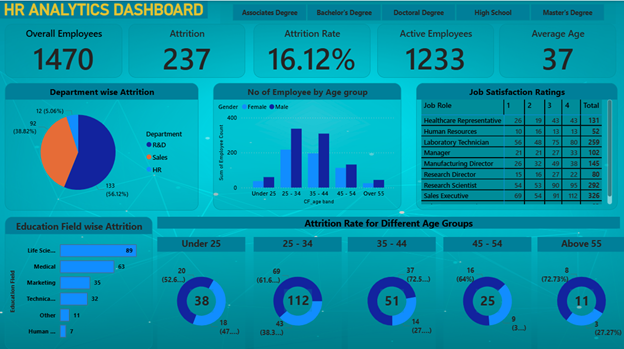

The page's visual inventory and layout, read from the dashboard file:
{"tool":"powerbi","page":{"name":"Page 1","canvas":[1280,720],"ordinal":0},"visuals":[{"type":"card","title":"Overall Employees","fields":{"Values":["Sum(HR data.Employee Count)"]},"box":[11.1,47.7,240.2,109.8],"z":0},{"type":"card","title":"Attrition","fields":{"Values":["Sum(HR data.Attrition Count)"]},"box":[264,47.7,238.6,109.8],"z":1000},{"type":"card","title":"Attrition Rate","fields":{"Values":["HR data.Attrition Rate"]},"box":[520.1,47.7,238.6,109.8],"z":2000},{"type":"card","title":"Active Employees","fields":{"Values":["HR data.Active Employees"]},"box":[773,47.7,238.6,109.8],"z":3000},{"type":"card","title":"Average Age","fields":{"Values":["Avg(HR data.Age)"]},"box":[1022.8,47.7,238.6,109.8],"z":4000},{"type":"pieChart","title":"Department wise Attrition","fields":{"Category":["HR data.Department"],"Y":["Sum(HR data.Attrition Count)"]},"box":[11.1,168.6,396.1,260.9],"z":5000},{"type":"clusteredColumnChart","title":"No of Employee by Age group","fields":{"Category":["HR data.CF_age band"],"Y":["Sum(HR data.Employee Count)"],"Series":["HR data.Gender"]},"box":[437.4,168.6,384.9,259.3],"z":6000},{"type":"pivotTable","title":"Job Satisfaction Ratings","fields":{"Rows":["HR data.Job Role"],"Columns":["HR data.Job Satisfaction"],"Values":["Sum(HR data.Employee Count)"]},"box":[852.6,168.6,412,259.3],"z":7000},{"type":"barChart","title":"Education Field wise Attrition","fields":{"Category":["HR data.Education Field"],"Y":["Sum(HR data.Attrition Count)"]},"box":[11.1,442.2,302.2,272],"z":8000},{"type":"donutChart","title":"Under 25","fields":{"Category":["HR data.Gender"],"Y":["Sum(HR data.Attrition Count)"],"Series":["HR data.CF_age band"]},"box":[322.9,483.5,179.7,237],"z":9000},{"type":"textbox","title":"Attrition Rate for Different Age Groups","box":[322.9,442.2,946.4,23.9],"z":10000},{"type":"donutChart","title":"25 - 34","fields":{"Category":["HR data.Gender"],"Y":["Sum(HR data.Attrition Count)"],"Series":["HR data.CF_age band"]},"box":[520.1,483.5,179.7,237],"z":11000},{"type":"donutChart","title":"35 - 44","fields":{"Category":["HR data.Gender"],"Y":["Sum(HR data.Attrition Count)"],"Series":["HR data.CF_age band"]},"box":[712.6,483.5,179.7,237],"z":12000},{"type":"donutChart","title":"45 - 54","fields":{"Category":["HR data.Gender"],"Y":["Sum(HR data.Attrition Count)"],"Series":["HR data.CF_age band"]},"box":[908.2,483.5,179.7,237],"z":13000},{"type":"donutChart","title":"Above 55","fields":{"Category":["HR data.Gender"],"Y":["Sum(HR data.Attrition Count)"],"Series":["HR data.CF_age band"]},"box":[1100.7,483.5,179.7,237],"z":14000},{"type":"card","fields":{"Values":["Sum(HR data.Attrition Count)"]},"box":[389.7,590.1,47.7,47.7],"z":15000},{"type":"card","fields":{"Values":["Sum(HR data.Attrition Count)"]},"box":[582.2,590.1,57.3,46.1],"z":16000},{"type":"card","fields":{"Values":["Sum(HR data.Attrition Count)"]},"box":[1167.5,590.1,47.7,47.7],"z":17000},{"type":"card","fields":{"Values":["Sum(HR data.Attrition Count)"]},"box":[975,590.1,47.7,47.7],"z":18000},{"type":"card","fields":{"Values":["Sum(HR data.Attrition Count)"]},"box":[779.4,590.1,47.7,47.7],"z":19000},{"type":"textbox","title":"HR ANALYTICS DASHBOARD","box":[0,0,426.3,36.6],"z":20000},{"type":"slicer","fields":{"Values":["HR data.Education"]},"box":[451.7,0,809.6,47.7],"z":21000}]}

Visuals, with their boxes in screenshot pixels (x1, y1, x2, y2), scaled from the page's 1280x720 canvas onto the 624x349 screenshot:
"Overall Employees" card: x1=5, y1=23, x2=123, y2=76
"Attrition" card: x1=129, y1=23, x2=245, y2=76
"Attrition Rate" card: x1=254, y1=23, x2=370, y2=76
"Active Employees" card: x1=377, y1=23, x2=493, y2=76
"Average Age" card: x1=499, y1=23, x2=615, y2=76
"Department wise Attrition" pieChart: x1=5, y1=82, x2=199, y2=208
"No of Employee by Age group" clusteredColumnChart: x1=213, y1=82, x2=401, y2=207
"Job Satisfaction Ratings" pivotTable: x1=416, y1=82, x2=616, y2=207
"Education Field wise Attrition" barChart: x1=5, y1=214, x2=153, y2=346
"Under 25" donutChart: x1=157, y1=234, x2=245, y2=348
"Attrition Rate for Different Age Groups" textbox: x1=157, y1=214, x2=619, y2=226
"25 - 34" donutChart: x1=254, y1=234, x2=341, y2=348
"35 - 44" donutChart: x1=347, y1=234, x2=435, y2=348
"45 - 54" donutChart: x1=443, y1=234, x2=530, y2=348
"Above 55" donutChart: x1=537, y1=234, x2=623, y2=348
card - Sum(HR data.Attrition Count): x1=190, y1=286, x2=213, y2=309
card - Sum(HR data.Attrition Count): x1=284, y1=286, x2=312, y2=308
card - Sum(HR data.Attrition Count): x1=569, y1=286, x2=592, y2=309
card - Sum(HR data.Attrition Count): x1=475, y1=286, x2=499, y2=309
card - Sum(HR data.Attrition Count): x1=380, y1=286, x2=403, y2=309
"HR ANALYTICS DASHBOARD" textbox: x1=0, y1=0, x2=208, y2=18
slicer - HR data.Education: x1=220, y1=0, x2=615, y2=23
